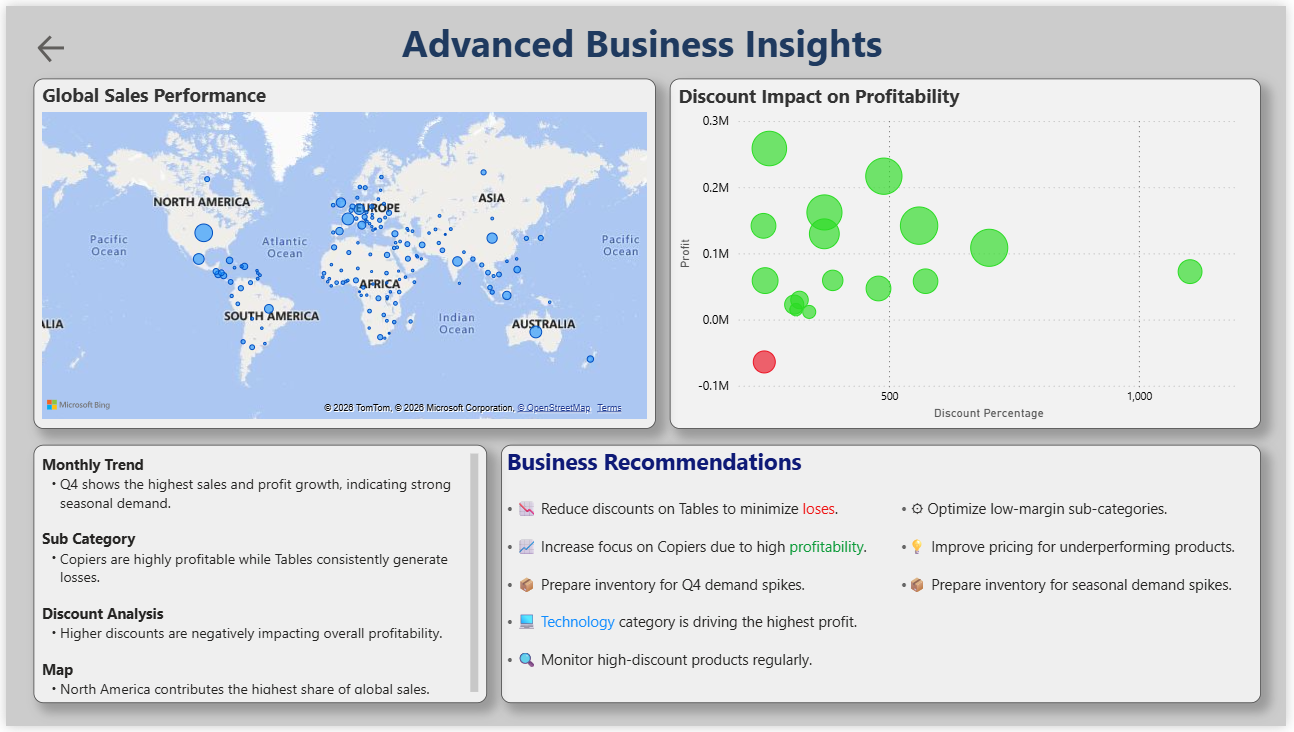

The page's visual inventory and layout, read from the dashboard file:
{"tool":"powerbi","page":{"name":"Dashboard_Page 2","canvas":[1280,720],"ordinal":1},"visuals":[{"type":"scatterChart","title":"Discount Impact on Profitability","fields":{"X":["Sum(Sales_analysis_cleaned.discount)"],"Y":["Sum(Sales_analysis_cleaned.profit)"],"Category":["Sales_analysis_cleaned.sub_category"],"Size":["Sum(Sales_analysis_cleaned.sales)"]},"box":[663.8,72.5,591.2,350],"z":0},{"type":"textbox","title":"Business Recommendations","box":[495,438.8,760,258.8],"z":1000},{"type":"map","title":"Global Sales Performance","fields":{"Category":["Sales_analysis_cleaned.country"],"Size":["Sum(Sales_analysis_cleaned.sales)"]},"box":[27.5,72.5,622.5,350],"z":2000},{"type":"textbox","box":[285,6,712.5,62.5],"z":3000},{"type":"actionButton","box":[27.5,17.5,36.2,51.2],"z":4000},{"type":"textbox","box":[27.5,438.8,453.8,258.8],"z":5000}]}

Visuals, with their boxes in screenshot pixels (x1, y1, x2, y2), scaled from the page's 1280x720 canvas onto the 1294x732 screenshot:
"Discount Impact on Profitability" scatterChart: select_region(671, 74, 1269, 430)
"Business Recommendations" textbox: select_region(500, 446, 1269, 709)
"Global Sales Performance" map: select_region(28, 74, 657, 430)
textbox: select_region(288, 6, 1008, 70)
actionButton: select_region(28, 18, 64, 70)
textbox: select_region(28, 446, 487, 709)
